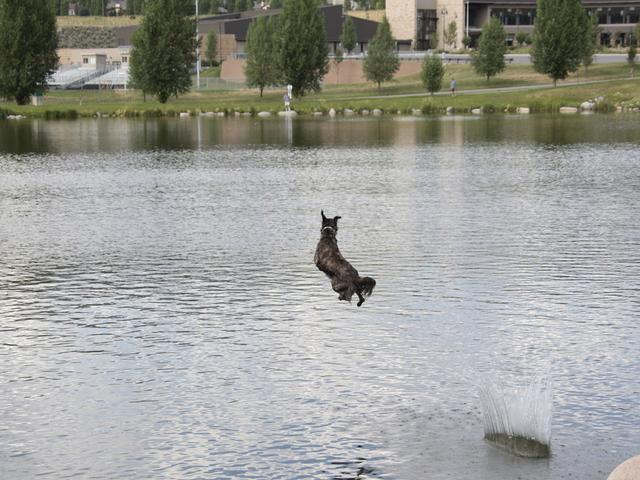dog: (306, 201, 392, 316)
